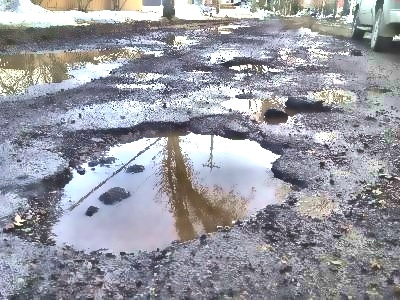pothole: (18, 116, 304, 253), (225, 58, 271, 73), (313, 88, 359, 102), (220, 95, 261, 110)
